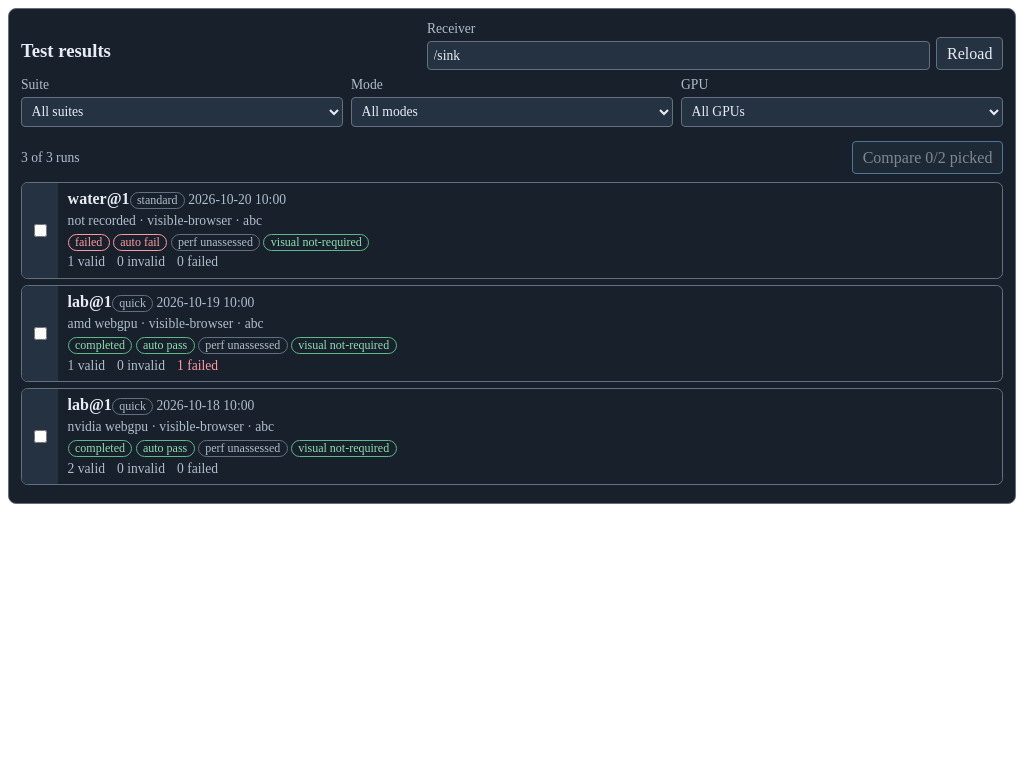
TestResultsComponent › a run › loads its result, shows a row per case with a thumbnail, the window and the redos
Click the 2nd button with class "run-open" at (90, 302), box [58,286,1002,381]
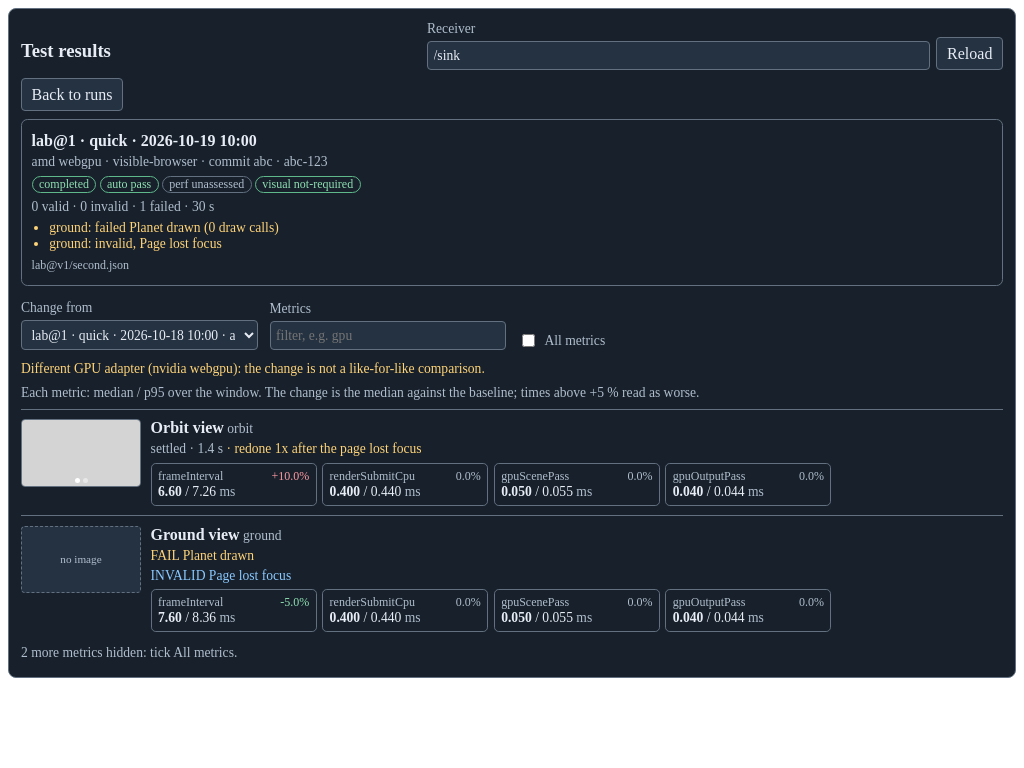
Now the list item with class "case" shows "Orbit view", box [151,419,224,436]
Now the list item with class "case" shows "settled · 1.4 s", box [151,441,223,456]
Now the list item with class "case" shows "redone 1x", box [223,441,422,456]
